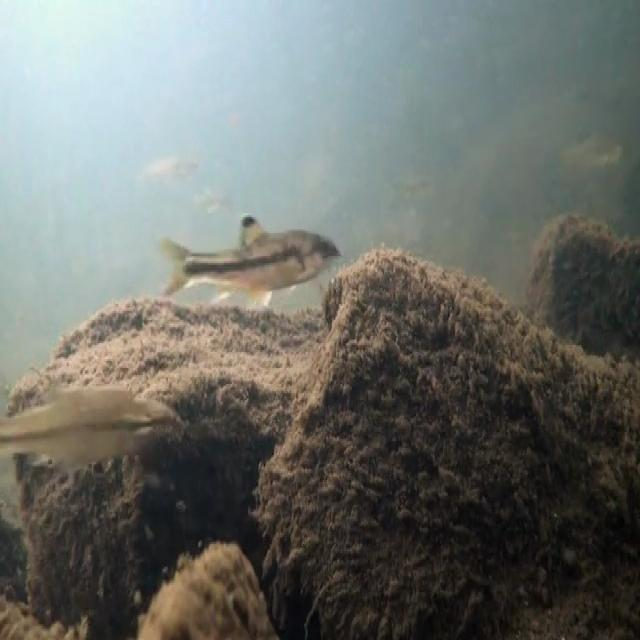Cakil Baligi: (157, 210, 347, 302)
